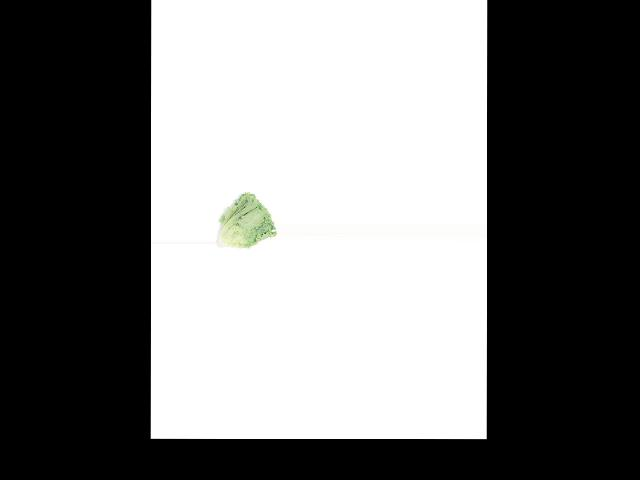lettuce: (214, 187, 276, 252)
